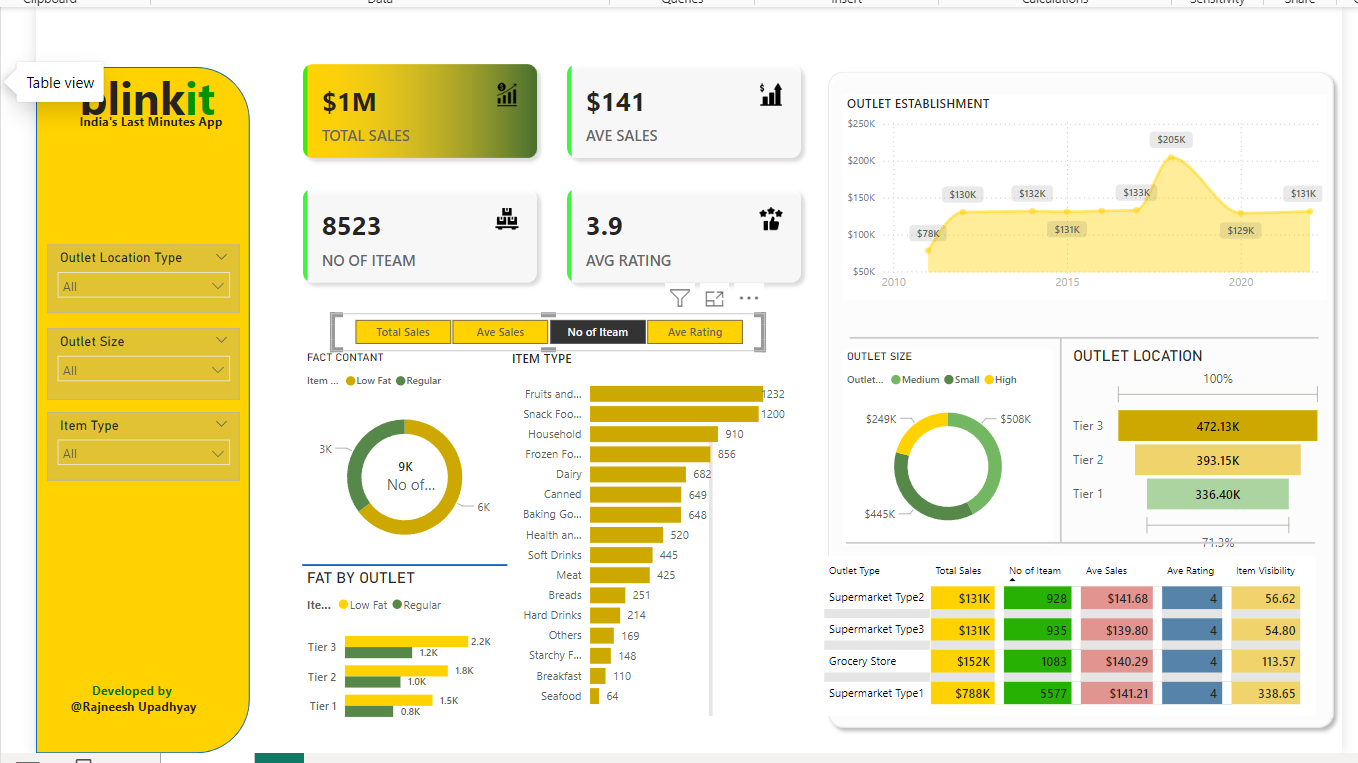

What the dashboard file says about the page in this screenshot:
{"tool":"powerbi","page":{"name":"Page 1","canvas":[1400,800],"ordinal":0},"visuals":[{"type":"shape","box":[0,64.3,229.2,735.9],"z":0},{"type":"textbox","box":[41.6,108.6,172.9,34.9],"z":1000},{"type":"textbox","box":[41.6,59,164.9,84.5],"z":2000},{"type":"cardVisual","fields":{"Data":["BlinkIT Grocery Data.Total Sales","BlinkIT Grocery Data.Ave Sales","BlinkIT Grocery Data.No of Iteam","BlinkIT Grocery Data.Ave Rating"]},"box":[269.4,44.2,569.7,269.4],"z":3000},{"type":"shape","box":[840,60,560,721.4],"z":4000},{"type":"donutChart","title":"FACT CONTANT","fields":{"Y":["BlinkIT Grocery Data.No of Iteam"],"Category":["BlinkIT Grocery Data.Item Fat Content"]},"box":[285.7,368.6,220,230],"z":5000},{"type":"slicer","fields":{"Values":["Matrix.Matrix"]},"box":[315.7,328.6,465.7,40],"z":6000},{"type":"cardVisual","fields":{"Data":["BlinkIT Grocery Data.No of Iteam"]},"box":[337.1,467.1,117.1,70],"z":7000},{"type":"clusteredBarChart","title":"FAT BY OUTLET","fields":{"Y":["BlinkIT Grocery Data.No of Iteam"],"Category":["BlinkIT Grocery Data.Outlet Location Type"],"Series":["BlinkIT Grocery Data.Item Fat Content"]},"box":[285.7,601.4,207.1,178.6],"z":8000},{"type":"shape","box":[285.7,577.1,220,41.4],"z":9000},{"type":"shape","box":[717.1,452.9,12.9,307.1],"z":10000},{"type":"barChart","title":"ITEM TYPE","fields":{"Y":["BlinkIT Grocery Data.No of Iteam"],"Category":["BlinkIT Grocery Data.Item Type"]},"box":[505.7,367.1,302.9,394.3],"z":11000},{"type":"lineChart","title":"OUTLET ESTABLISHMENT","fields":{"Y":["BlinkIT Grocery Data.Total Sales"],"Category":["BlinkIT Grocery Data.Outlet Establishment Year"]},"box":[864.3,94.3,520,220],"z":12000},{"type":"shape","box":[872.9,340,502.9,28.6],"z":13000},{"type":"donutChart","title":"OUTLET SIZE","fields":{"Y":["BlinkIT Grocery Data.Total Sales"],"Category":["BlinkIT Grocery Data.Outlet Size"]},"box":[864.3,367.1,227.1,210],"z":14000},{"type":"shape","box":[1091.4,354.3,15.7,220],"z":15000},{"type":"funnel","title":"OUTLET LOCATION","fields":{"Y":["Sum(BlinkIT Grocery Data.Sales)"],"Category":["BlinkIT Grocery Data.Outlet Location Type"]},"box":[1107.1,362.9,277.1,225.7],"z":16000},{"type":"shape","box":[868.6,560,502.9,28.6],"z":17000},{"type":"pivotTable","fields":{"Rows":["BlinkIT Grocery Data.Outlet Type"],"Values":["BlinkIT Grocery Data.Total Sales","BlinkIT Grocery Data.No of Iteam","BlinkIT Grocery Data.Ave Sales","BlinkIT Grocery Data.Ave Rating","Sum(BlinkIT Grocery Data.Item Visibility)"]},"box":[840.8,588.7,532.4,171.8],"z":18000},{"type":"slicer","fields":{"Values":["BlinkIT Grocery Data.Outlet Location Type"]},"box":[12.1,254.7,206.4,73.7],"z":19000},{"type":"slicer","fields":{"Values":["BlinkIT Grocery Data.Outlet Size"]},"box":[12.1,344.5,206.4,76.4],"z":20000},{"type":"slicer","fields":{"Values":["BlinkIT Grocery Data.Item Type"]},"box":[12.1,434.3,206.4,73.7],"z":21000},{"type":"textbox","box":[25.5,718.5,158.2,63],"z":22000}]}

Visuals, with their boxes on the page's 1400x800 design canvas (x1, y1, x2, y2). These are canvas units, not pixel positions in the 1358x763 screenshot, which may show the page scaled, cropped or inside an application window:
shape: [x1=0, y1=64, x2=229, y2=800]
textbox: [x1=42, y1=109, x2=214, y2=144]
textbox: [x1=42, y1=59, x2=206, y2=144]
cardVisual - BlinkIT Grocery Data.Total Sales x BlinkIT Grocery Data.Ave Sales: [x1=269, y1=44, x2=839, y2=314]
shape: [x1=840, y1=60, x2=1400, y2=781]
"FACT CONTANT" donutChart: [x1=286, y1=369, x2=506, y2=599]
slicer - Matrix.Matrix: [x1=316, y1=329, x2=781, y2=369]
cardVisual - BlinkIT Grocery Data.No of Iteam: [x1=337, y1=467, x2=454, y2=537]
"FAT BY OUTLET" clusteredBarChart: [x1=286, y1=601, x2=493, y2=780]
shape: [x1=286, y1=577, x2=506, y2=618]
shape: [x1=717, y1=453, x2=730, y2=760]
"ITEM TYPE" barChart: [x1=506, y1=367, x2=809, y2=761]
"OUTLET ESTABLISHMENT" lineChart: [x1=864, y1=94, x2=1384, y2=314]
shape: [x1=873, y1=340, x2=1376, y2=369]
"OUTLET SIZE" donutChart: [x1=864, y1=367, x2=1091, y2=577]
shape: [x1=1091, y1=354, x2=1107, y2=574]
"OUTLET LOCATION" funnel: [x1=1107, y1=363, x2=1384, y2=589]
shape: [x1=869, y1=560, x2=1372, y2=589]
pivotTable - BlinkIT Grocery Data.Outlet Type x BlinkIT Grocery Data.Total Sales: [x1=841, y1=589, x2=1373, y2=760]
slicer - BlinkIT Grocery Data.Outlet Location Type: [x1=12, y1=255, x2=218, y2=328]
slicer - BlinkIT Grocery Data.Outlet Size: [x1=12, y1=344, x2=218, y2=421]
slicer - BlinkIT Grocery Data.Item Type: [x1=12, y1=434, x2=218, y2=508]
textbox: [x1=26, y1=718, x2=184, y2=782]
